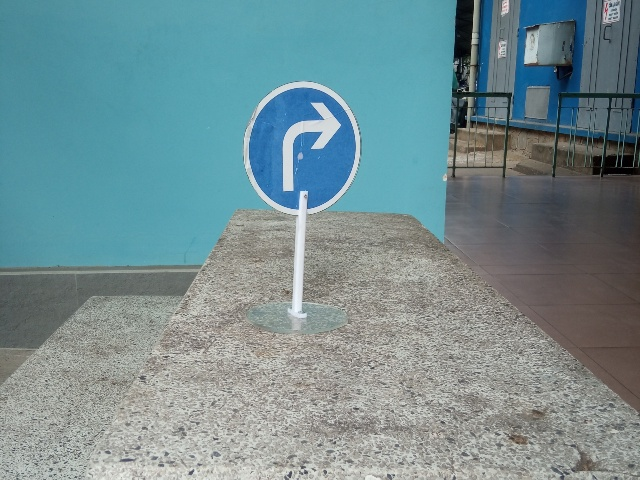Right_Sign: (243, 80, 361, 217)
